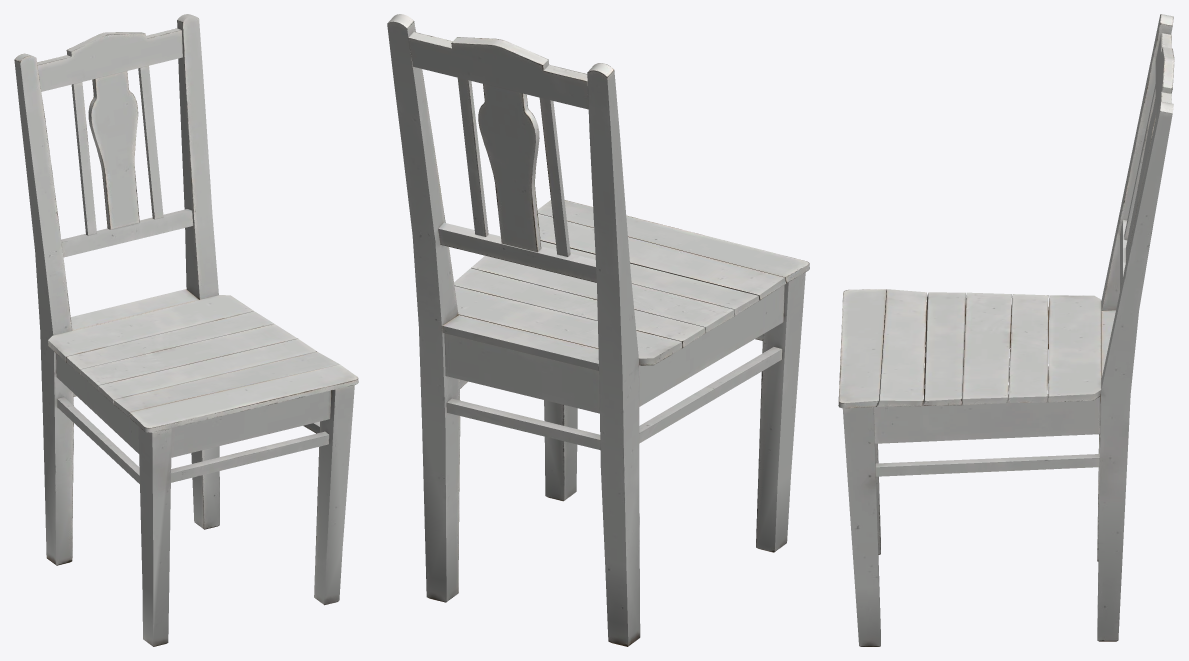
Rendered from painted_wooden_chair_01.glb.
3 views of the same model, side by side, from view 1: azimuth 30°, elevation 25°; view 2: azimuth 150°, elevation 25°; view 3: azimuth 270°, elevation 25° (orthographic). The views are drawn at different scales.
Parts seen in each view (by area): view 1: painted_wooden_chair_01; view 2: painted_wooden_chair_01; view 3: painted_wooden_chair_01.
Part boxes in pixels (x1=…): painted_wooden_chair_01: x1=14, y1=14, x2=358, y2=646; painted_wooden_chair_01: x1=387, y1=14, x2=809, y2=646; painted_wooden_chair_01: x1=838, y1=14, x2=1174, y2=646.
Size of the model in its own units: 0.4317 by 0.9565 by 0.5398.
1 material, 1 textured.
